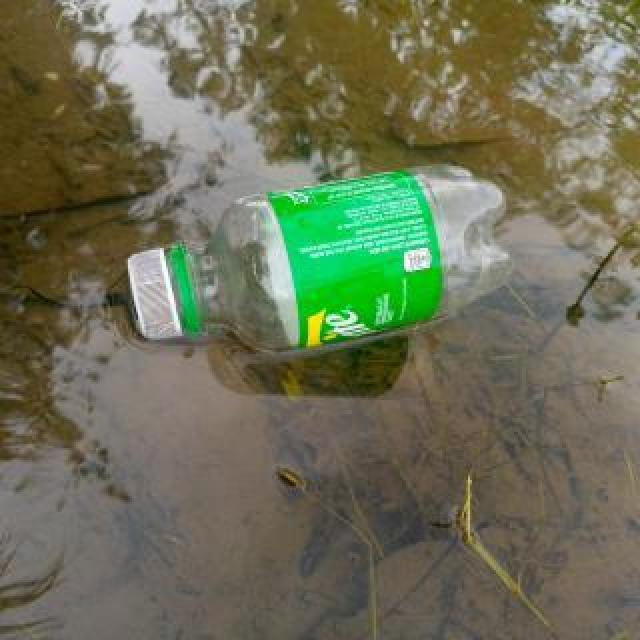bottle: (125, 162, 517, 362)
